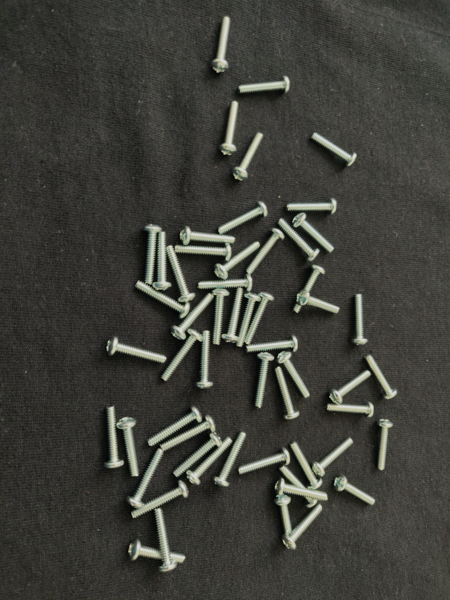longscrew: (123, 448, 164, 510), (146, 405, 203, 448), (185, 436, 233, 487), (172, 432, 224, 479), (130, 480, 190, 520), (160, 328, 204, 382), (134, 280, 191, 320), (159, 414, 217, 453), (170, 292, 215, 341), (277, 218, 321, 263), (281, 504, 323, 551), (245, 228, 286, 275), (212, 432, 247, 487), (213, 241, 262, 280), (277, 463, 319, 508), (217, 200, 269, 235), (291, 213, 335, 254), (231, 132, 266, 183), (310, 131, 358, 168), (166, 244, 196, 303), (292, 264, 326, 316), (311, 437, 354, 478), (244, 291, 276, 346), (152, 508, 178, 575), (275, 351, 311, 399), (106, 337, 167, 365), (290, 441, 323, 490), (115, 417, 141, 478), (364, 354, 398, 400), (127, 539, 187, 565), (329, 370, 372, 405), (102, 405, 125, 470), (237, 448, 292, 475), (274, 366, 301, 420), (236, 292, 262, 348), (334, 474, 377, 506), (274, 477, 329, 502), (221, 287, 245, 344), (209, 15, 232, 74), (143, 223, 163, 287), (254, 351, 276, 409), (218, 100, 240, 157), (236, 75, 292, 97), (178, 226, 236, 247), (195, 330, 215, 390), (296, 289, 340, 316), (153, 231, 172, 292), (174, 243, 233, 262), (197, 273, 253, 293), (211, 289, 230, 346), (245, 335, 299, 354), (350, 293, 369, 346), (376, 419, 395, 471), (325, 400, 376, 419), (286, 198, 339, 215), (274, 494, 293, 540)
